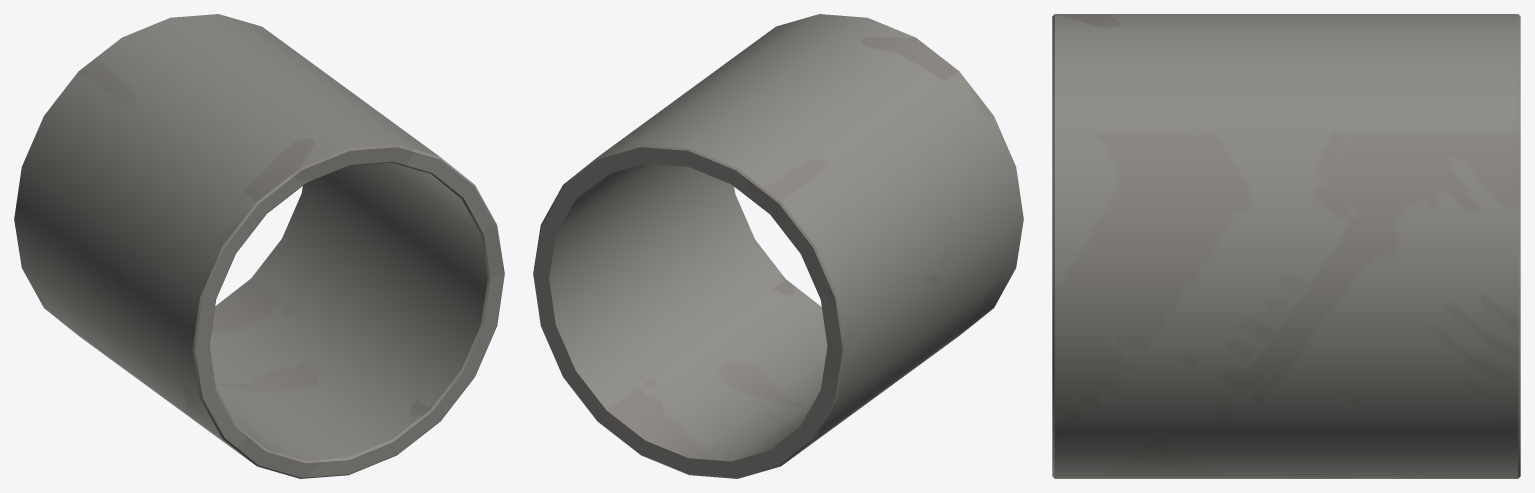
File: model_concrete_cylinder.fbx
The picture shows the model from 3 angles, left to right: view 1: azimuth 30°, elevation 25°; view 2: azimuth 150°, elevation 25°; view 3: azimuth 270°, elevation 25°; orthographic projection. The views are drawn at different scales.
Visible parts, largest first — view 1: model_concrete_cylinder; view 2: model_concrete_cylinder; view 3: model_concrete_cylinder.
Part boxes in pixels (<box>): model_concrete_cylinder: <box>14,14,504,478</box>; model_concrete_cylinder: <box>533,14,1023,478</box>; model_concrete_cylinder: <box>1052,14,1520,478</box>.
Size of the model in its own units: 562 by 562 by 562.
Materials: 1 (1 with a texture image).
